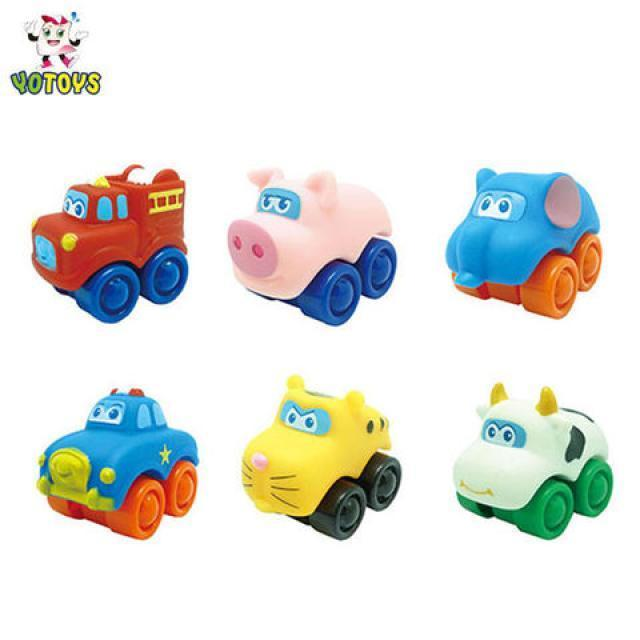hard-toy: (229, 170, 397, 325), (34, 166, 190, 324), (455, 385, 614, 540), (37, 391, 199, 539), (447, 170, 604, 319), (244, 381, 391, 519)
